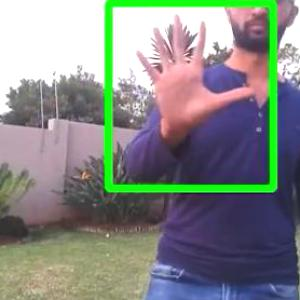follow_hand: (132, 6, 258, 132)
